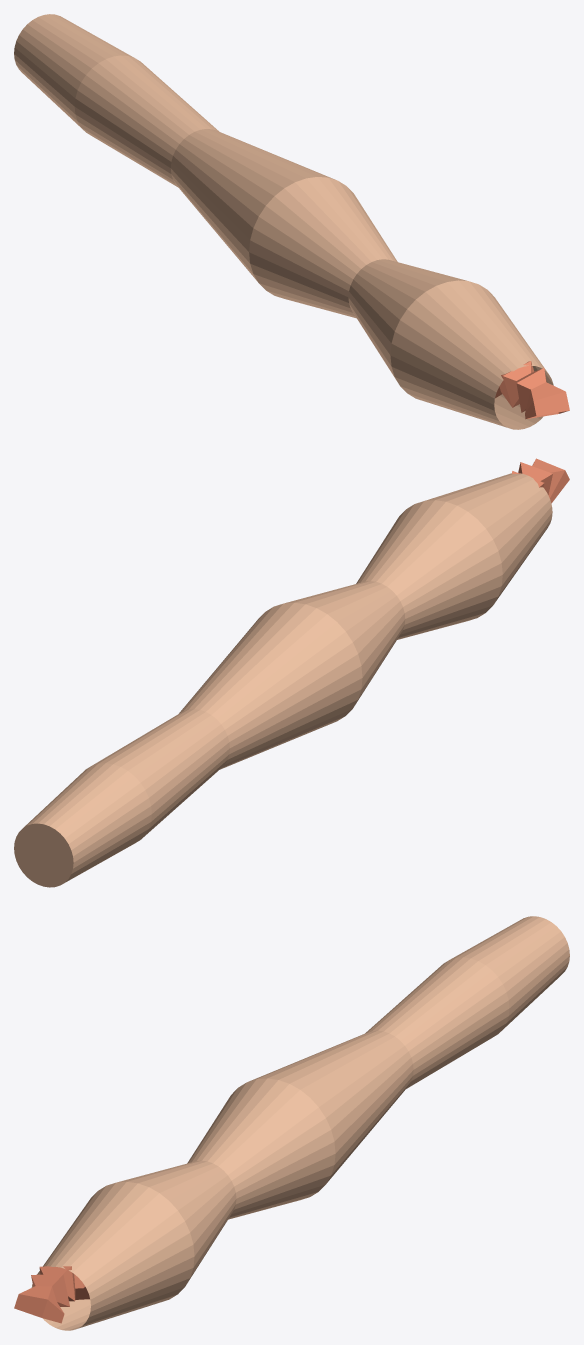
File: tunnerl_test.gltf
The picture shows the model from 3 angles, top to bottom: view 1: azimuth 30°, elevation 25°; view 2: azimuth 150°, elevation 25°; view 3: azimuth 330°, elevation 25°; orthographic projection.
Visible parts, largest first — view 1: Cylinder, Vert; view 2: Cylinder, Vert; view 3: Cylinder, Vert.
Part boxes in pixels (x1,y1,x2,y2): Cylinder: [14, 14, 553, 429]; Vert: [495, 361, 569, 419]; Cylinder: [14, 473, 552, 887]; Vert: [512, 458, 569, 503]; Cylinder: [31, 916, 569, 1330]; Vert: [14, 1266, 89, 1323].
Size of the model in its own units: 14.58 by 14.58 by 113.
